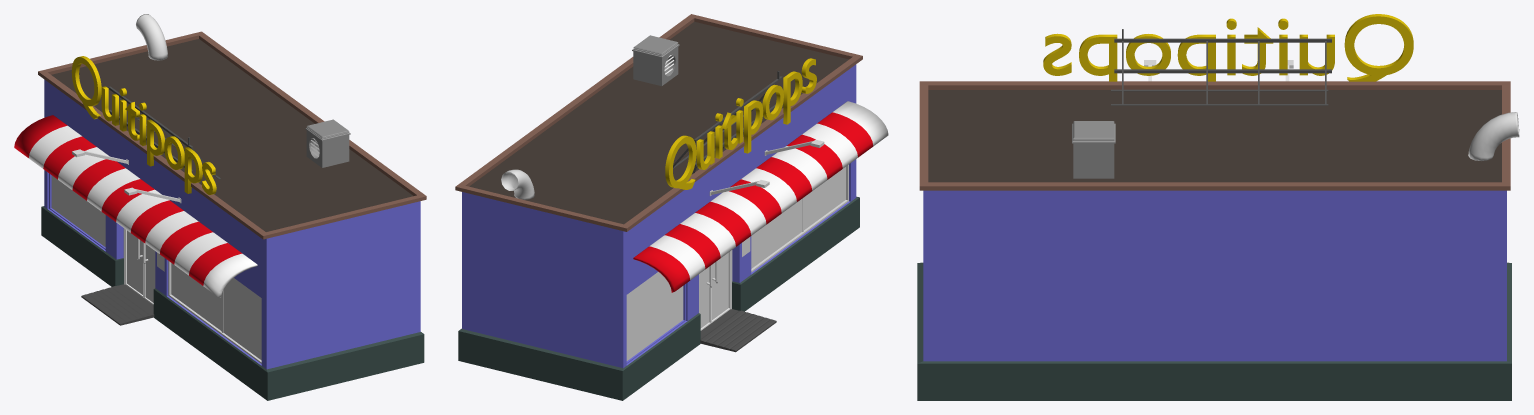
The model's file is Tienda 7.fbx.
3 views of the same model, side by side, from view 1: azimuth 30°, elevation 25°; view 2: azimuth 150°, elevation 25°; view 3: azimuth 270°, elevation 25° (orthographic). The views are drawn at different scales.
Visible parts, largest first — view 1: Cube.044, Circle.005, Cube.043, Cube.040, Text.001, Cube.041, Cube.024, Circle.004, Cube.037, Cube.020, Cube.035; view 2: Cube.044, Circle.005, Cube.043, Text.001, Cube.040, Cube.041, Cube.024, Cube.035, Cube.020, Circle.004, Cube.037; view 3: Cube.044, Cube.043, Text.001, Cube.020, Cube.024, Circle.004.
Part boxes in pixels (left/top/right/bottom): Cube.044: left=41, top=39, right=424, bottom=400; Circle.005: left=14, top=115, right=257, bottom=297; Cube.043: left=38, top=31, right=426, bottom=239; Cube.040: left=168, top=261, right=261, bottom=363; Text.001: left=71, top=56, right=216, bottom=194; Cube.041: left=81, top=284, right=154, bottom=325; Cube.024: left=305, top=119, right=350, bottom=167; Circle.004: left=136, top=14, right=167, bottom=60; Cube.037: left=127, top=230, right=142, bottom=294; Cube.020: left=108, top=86, right=220, bottom=179; Cube.035: left=145, top=244, right=155, bottom=302; Cube.044: left=458, top=21, right=859, bottom=400; Circle.005: left=633, top=101, right=888, bottom=292; Cube.043: left=455, top=14, right=862, bottom=231; Text.001: left=665, top=58, right=816, bottom=189; Cube.040: left=751, top=164, right=848, bottom=272; Cube.041: left=700, top=309, right=776, bottom=352; Cube.024: left=632, top=35, right=679, bottom=86; Cube.035: left=712, top=252, right=728, bottom=319; Cube.020: left=673, top=71, right=782, bottom=174; Circle.004: left=501, top=169, right=534, bottom=199; Cube.037: left=699, top=267, right=709, bottom=328; Cube.044: left=917, top=90, right=1511, bottom=400; Cube.043: left=919, top=81, right=1510, bottom=190; Text.001: left=1043, top=14, right=1413, bottom=81; Cube.020: left=1111, top=29, right=1331, bottom=105; Cube.024: left=1072, top=121, right=1115, bottom=178; Circle.004: left=1468, top=112, right=1519, bottom=160.
Size of the model in its own units: 1555 by 1503 by 2906.
